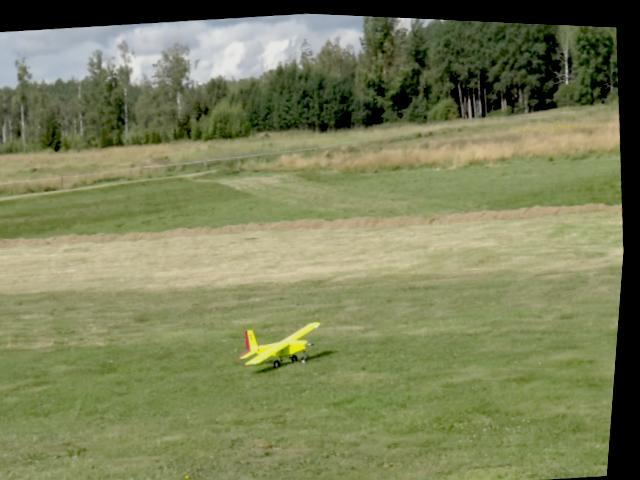plane: (238, 314, 332, 370)
